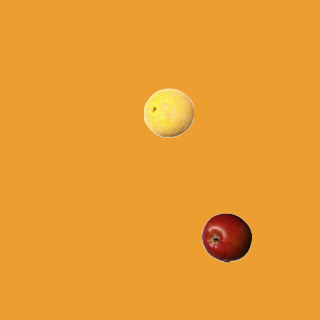Apple Braeburn: (201, 212, 251, 262)
Cantaloupe 1: (143, 87, 193, 137)
